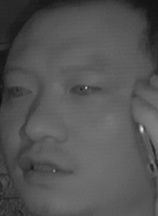eye: (68, 79, 102, 99), (6, 82, 34, 102)
mouth: (14, 148, 77, 184)
